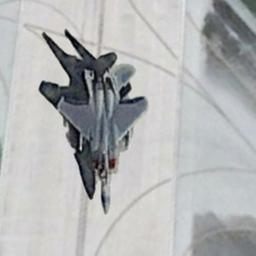Airplane: (35, 26, 149, 214)
